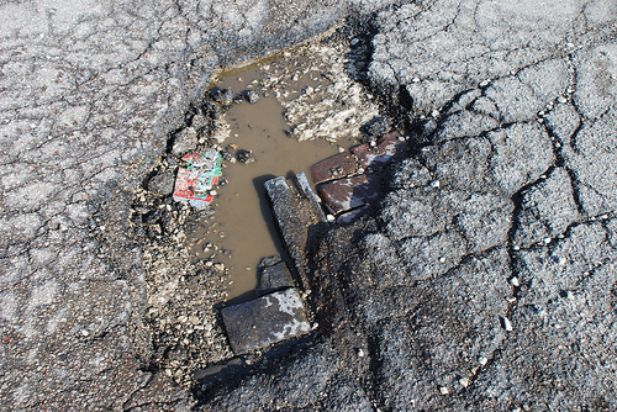pothole: (97, 13, 433, 393)
